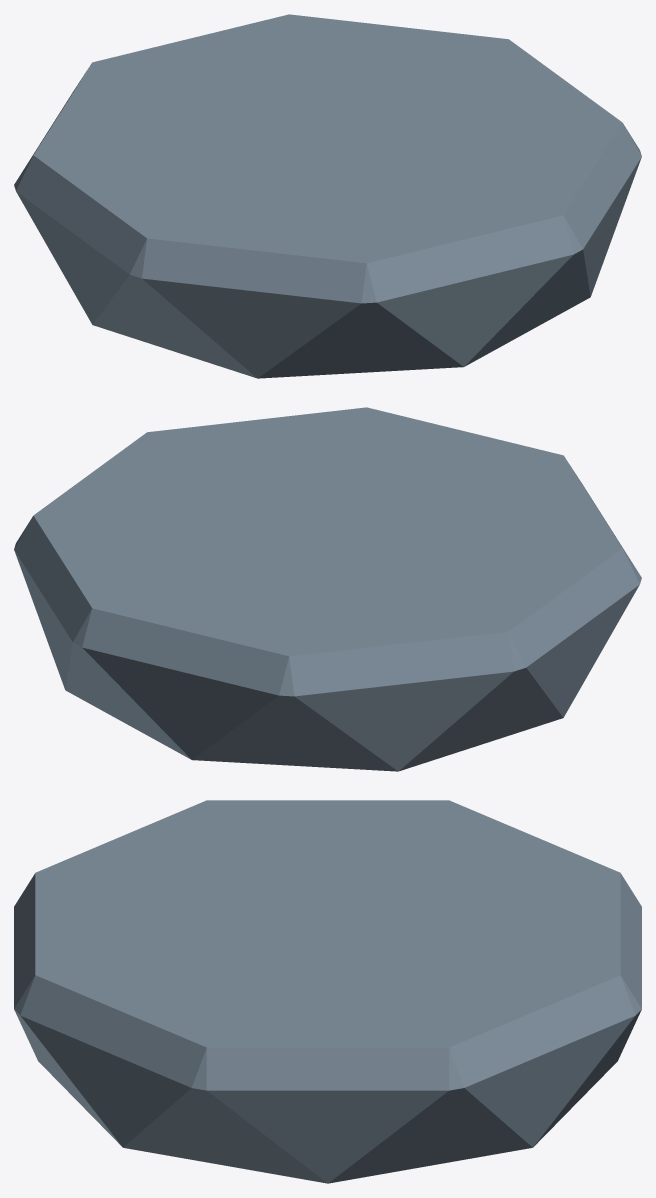
File: DD_Markers.fbx
The picture shows the model from 3 angles, top to bottom: view 1: azimuth 30°, elevation 25°; view 2: azimuth 150°, elevation 25°; view 3: azimuth 270°, elevation 25°; orthographic projection. The views are drawn at different scales.
Parts seen in each view (by area): view 1: DD_Marker_Spawn.001; view 2: DD_Marker_Spawn.001; view 3: DD_Marker_Spawn.001.
Boxes of the visible parts, x1=… form: DD_Marker_Spawn.001: x1=14, y1=14, x2=641, y2=378; DD_Marker_Spawn.001: x1=14, y1=407, x2=641, y2=771; DD_Marker_Spawn.001: x1=14, y1=800, x2=641, y2=1183.
Size of the model in its own units: 0.0293 by 0.00705 by 0.0293.
